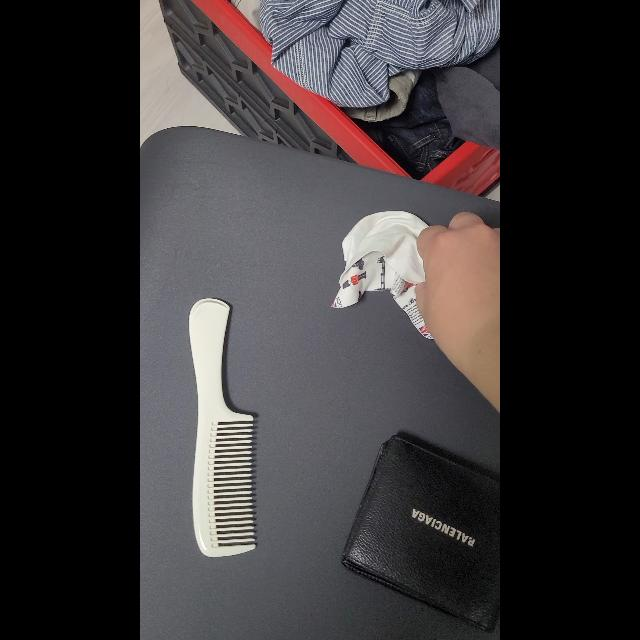COMB: (188, 298, 256, 558)
Glasses cleaning cloth: (331, 210, 434, 340)
WALLET: (341, 436, 499, 634)
